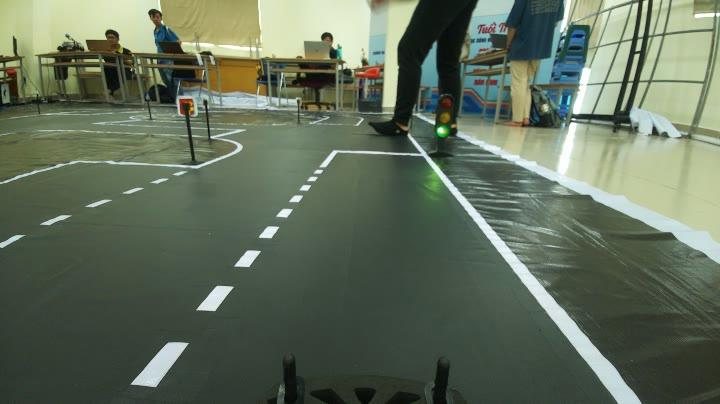trafficlight: (422, 91, 456, 162)
